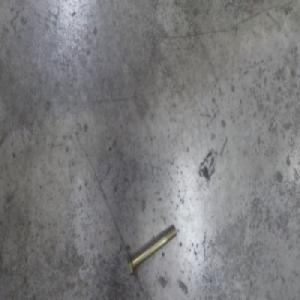Bolt: (125, 223, 175, 280)
